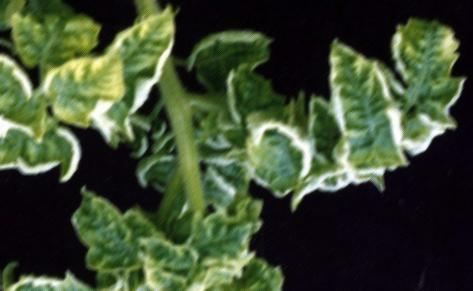Tomato leaf yellow virus: (324, 21, 404, 179), (390, 13, 469, 139), (65, 183, 145, 281), (41, 49, 139, 128), (241, 98, 313, 203), (0, 115, 87, 191), (0, 36, 52, 139), (0, 254, 132, 291)
